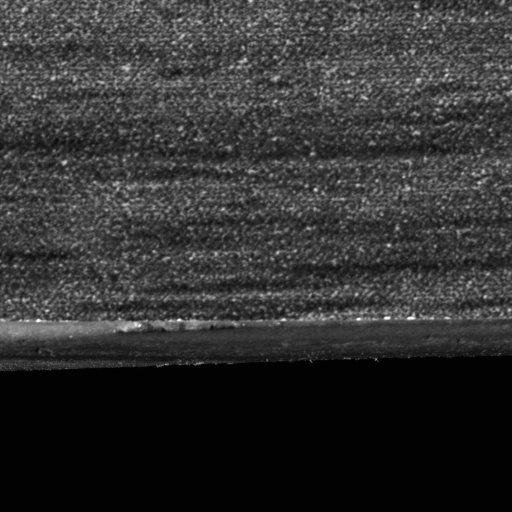kaijiao: (0, 314, 511, 374)
